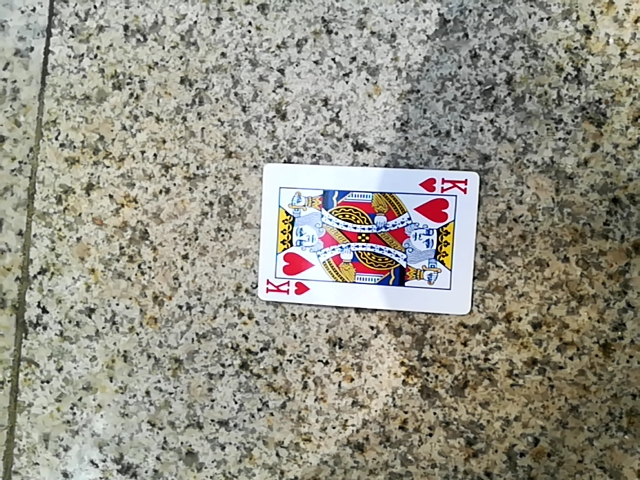hx k: (249, 166, 472, 316)
